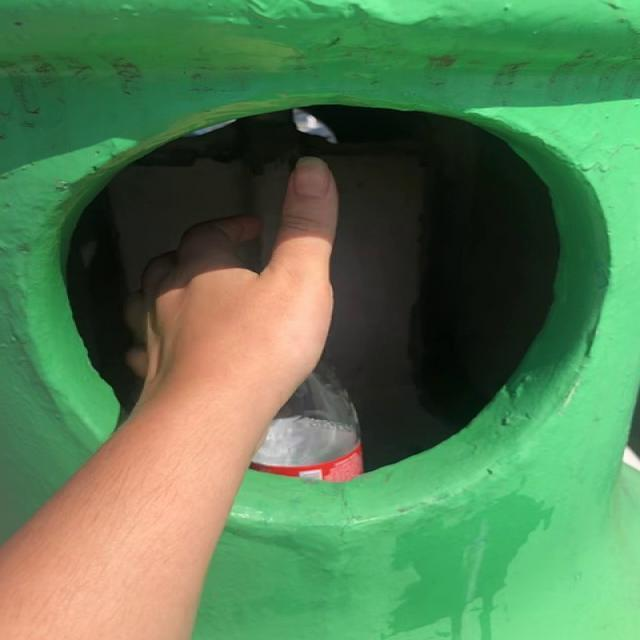Glass: (249, 364, 363, 482)
